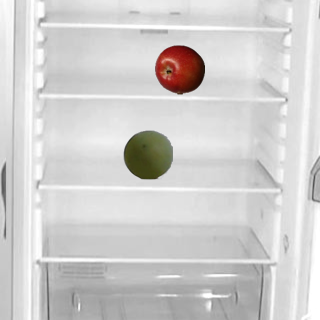Apple Braeburn: (154, 44, 204, 94)
Grape White 4: (122, 129, 172, 179)
